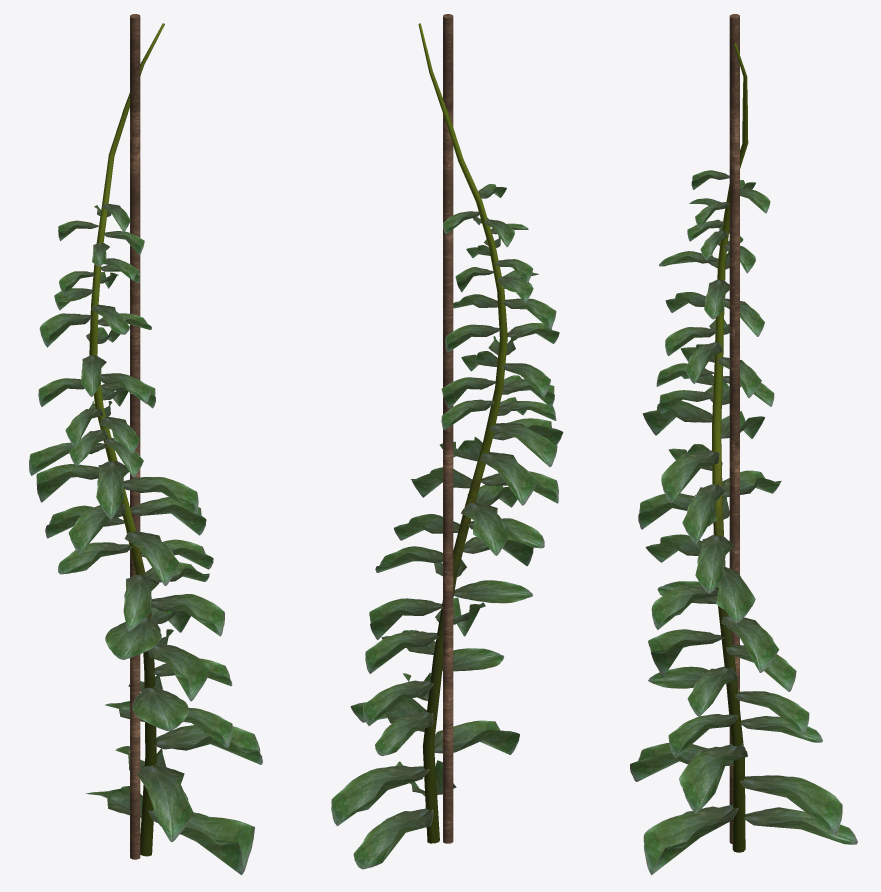
The model's file is fave_down.FBX.
The picture shows the model from 3 angles, left to right: view 1: azimuth 30°, elevation 25°; view 2: azimuth 150°, elevation 25°; view 3: azimuth 270°, elevation 25°; orthographic projection.
Parts seen in each view (by area): view 1: fave_down; view 2: fave_down; view 3: fave_down.
Boxes of the visible parts, x1,y1,x2,y2 form: fave_down: (29, 14, 262, 875); fave_down: (331, 14, 563, 869); fave_down: (630, 14, 857, 875).
Size of the model in its own units: 21.42 by 70.36 by 19.78.
